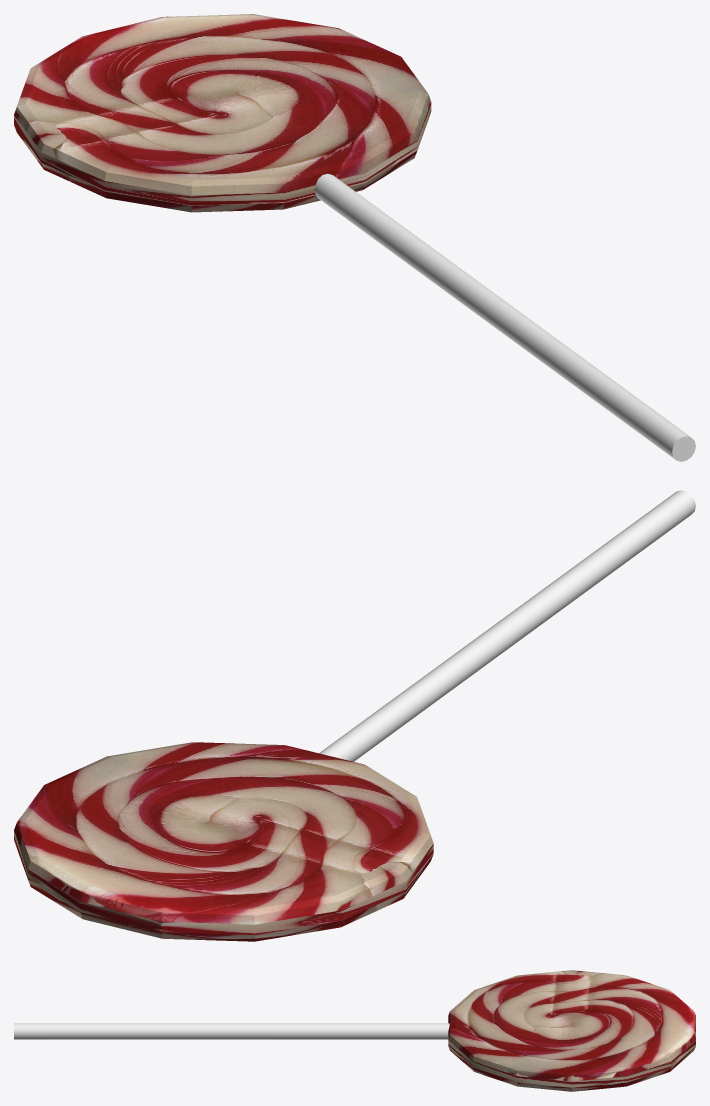
Rendered from sp_lollipop_3.FBX.
3 renders of one model, top to bottom at view 1: azimuth 30°, elevation 25°; view 2: azimuth 150°, elevation 25°; view 3: azimuth 270°, elevation 25°, orthographic. The views are drawn at different scales.
Visible parts, largest first — view 1: sp_lollipop_3; view 2: sp_lollipop_3; view 3: sp_lollipop_3.
Boxes of the visible parts, x1,y1,x2,y2 form: sp_lollipop_3: [14, 14, 695, 461]; sp_lollipop_3: [14, 490, 695, 941]; sp_lollipop_3: [14, 970, 695, 1091].
Bounding box in the file's own units: 1.79 × 4.81 × 0.1475.
